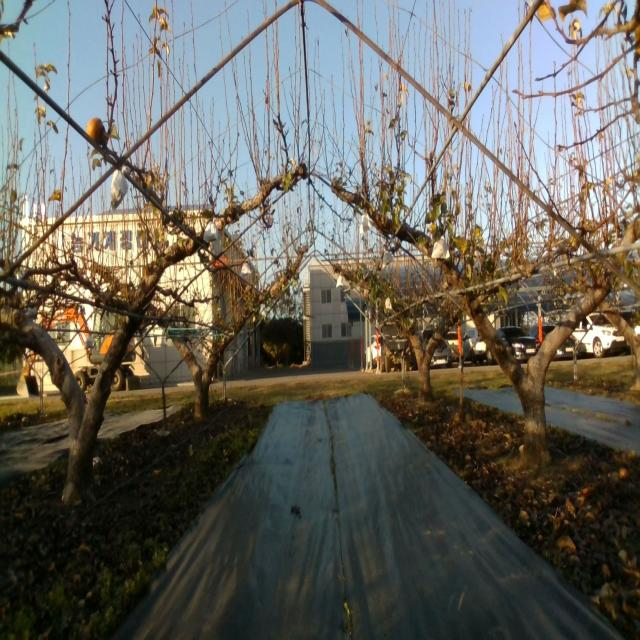pearbags: (110, 164, 129, 212), (431, 234, 450, 259), (203, 217, 220, 242), (359, 213, 371, 234), (382, 250, 394, 270)
